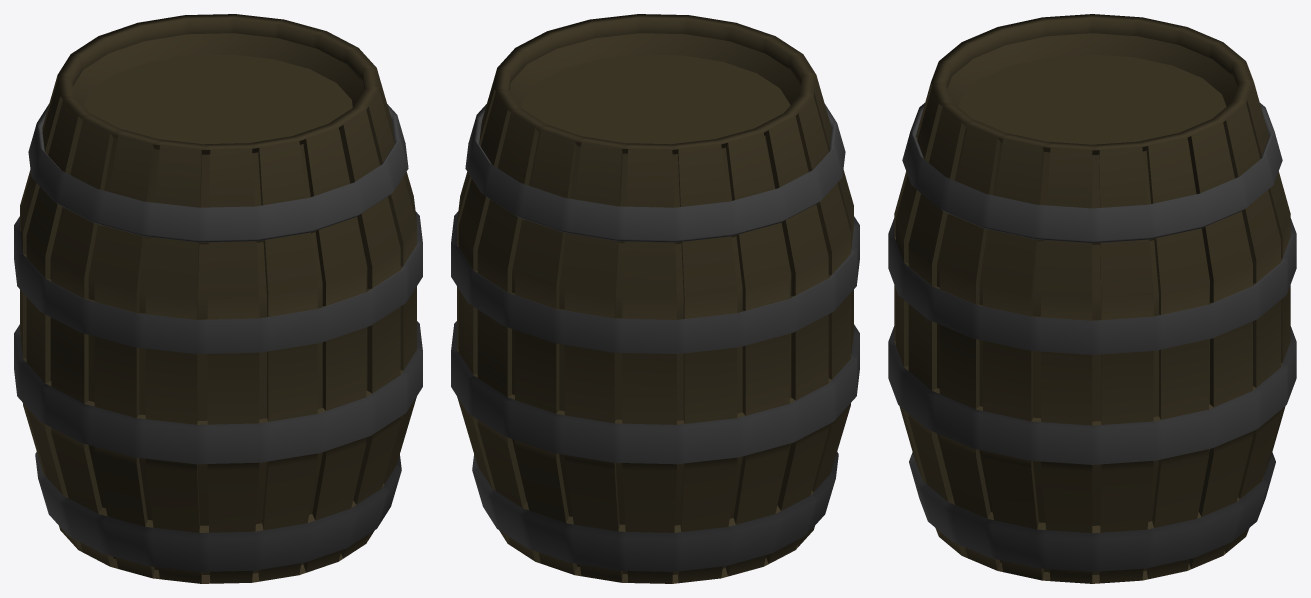
File: barral.fbx
3 views of the same model, side by side, from view 1: azimuth 30°, elevation 25°; view 2: azimuth 150°, elevation 25°; view 3: azimuth 270°, elevation 25° (orthographic).
Visible parts, largest first — view 1: pCylinder1; view 2: pCylinder1; view 3: pCylinder1.
Part boxes in pixels (left/top/right/bottom): pCylinder1: left=14, top=14, right=422, bottom=583; pCylinder1: left=451, top=14, right=859, bottom=583; pCylinder1: left=888, top=14, right=1296, bottom=583.
Bounding box in the file's own units: 2.47 × 2.87 × 2.46.
